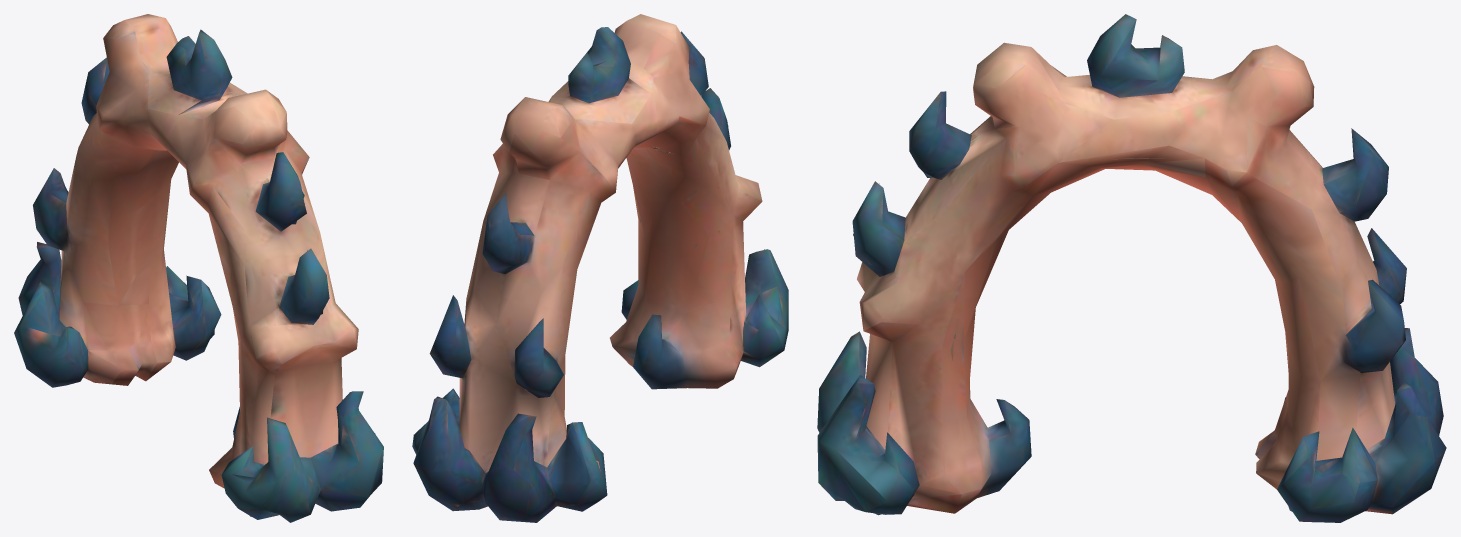
The model's file is lg-bone-arch.glb.
3 views of the same model, side by side, from view 1: azimuth 30°, elevation 25°; view 2: azimuth 150°, elevation 25°; view 3: azimuth 270°, elevation 25° (orthographic). The views are drawn at different scales.
Parts seen in each view (by area): view 1: geometry_0; view 2: geometry_0; view 3: geometry_0.
Boxes of the visible parts, <box> form: geometry_0: <box>14,14,383,522</box>; geometry_0: <box>412,14,788,522</box>; geometry_0: <box>817,14,1446,522</box>.
Bounding box in the file's own units: 0.3949 × 0.8267 × 1.
Materials: 1 (1 with a texture image).
